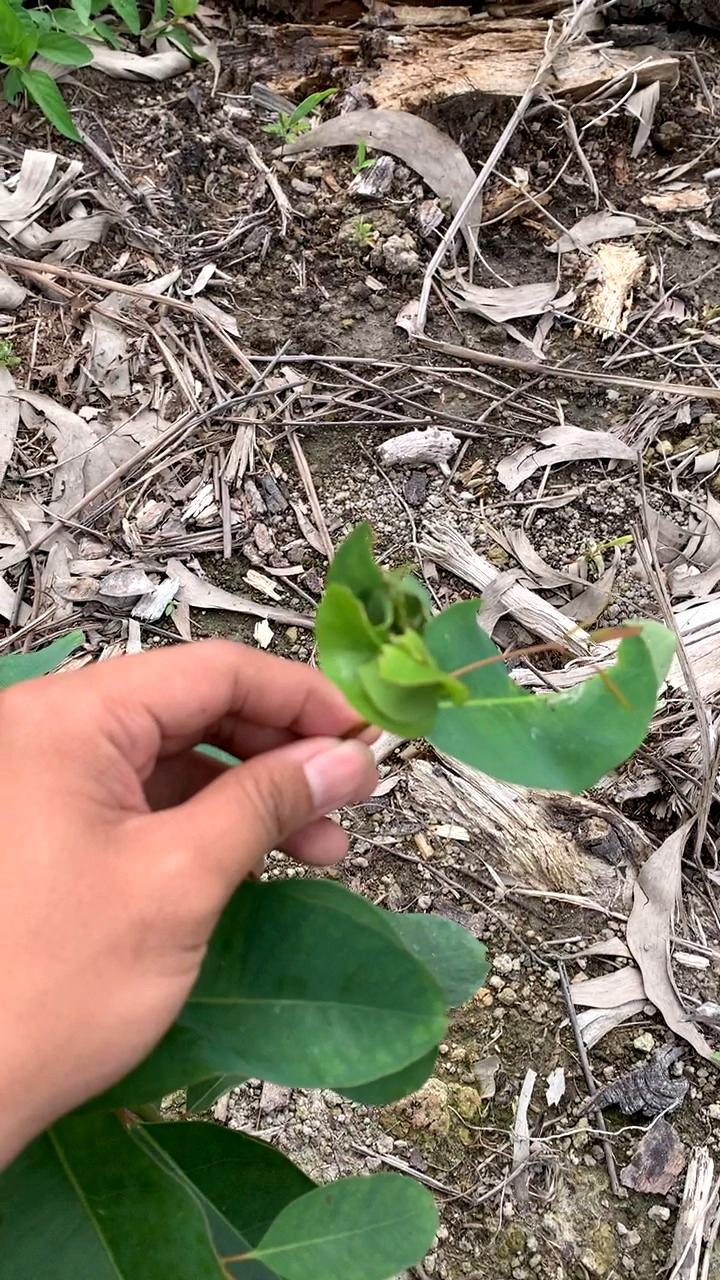Leaf Roller - Leaf: (320, 538, 679, 785)
